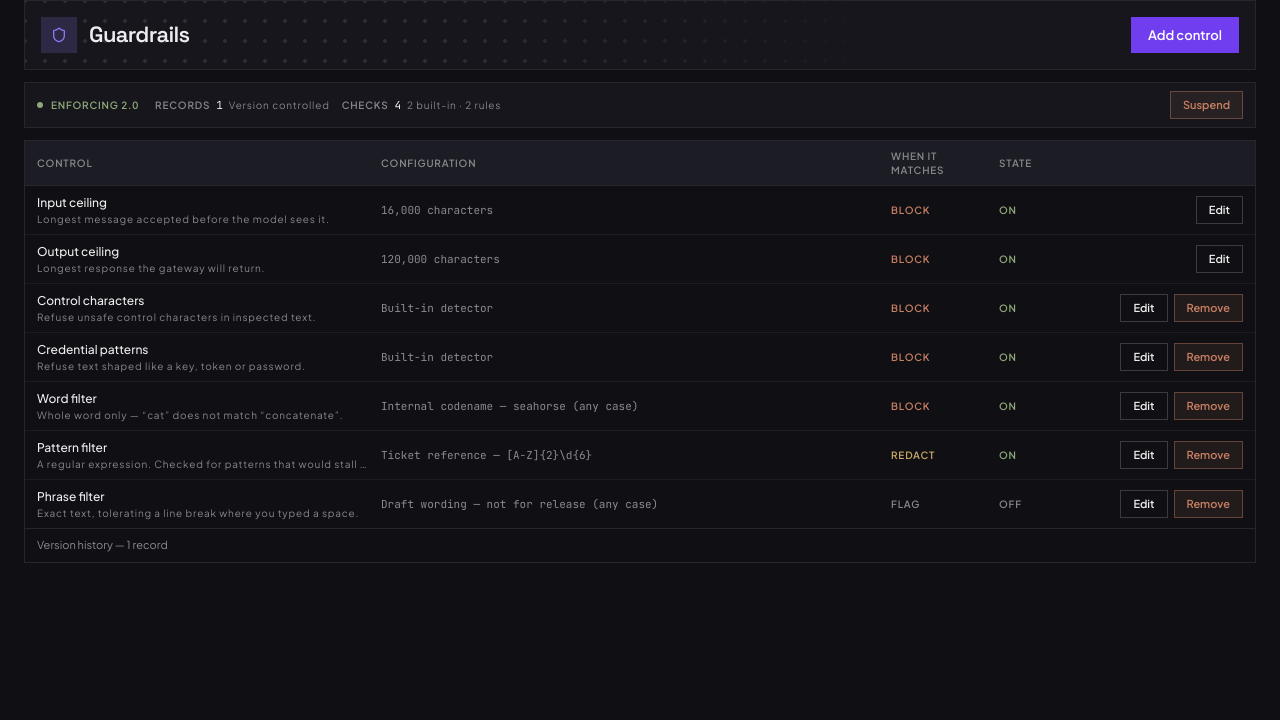
Scenario: guardrails › says that guardrails inspect what is sent, and makes no claim about responses
Click the button "Add control" at (1185, 35), box [1131,17,1239,53]
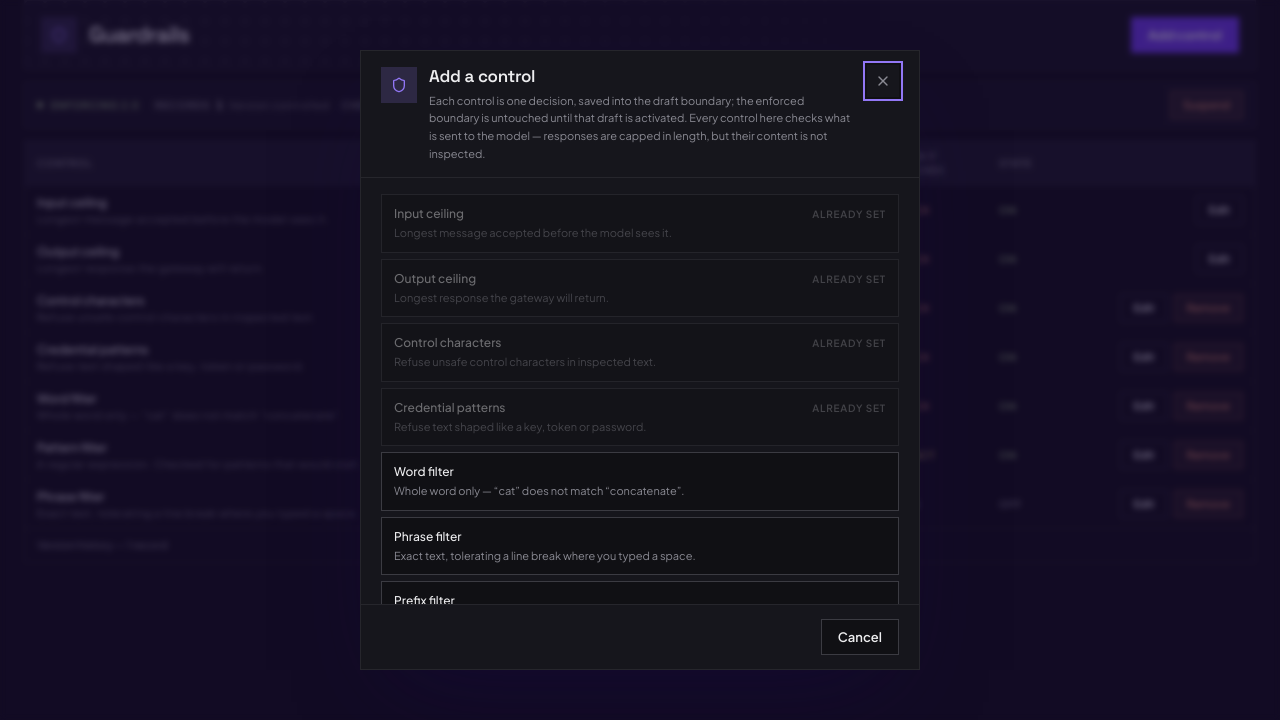
Expected: the text "their content is not inspected" is shown, [429,94,850,160]
